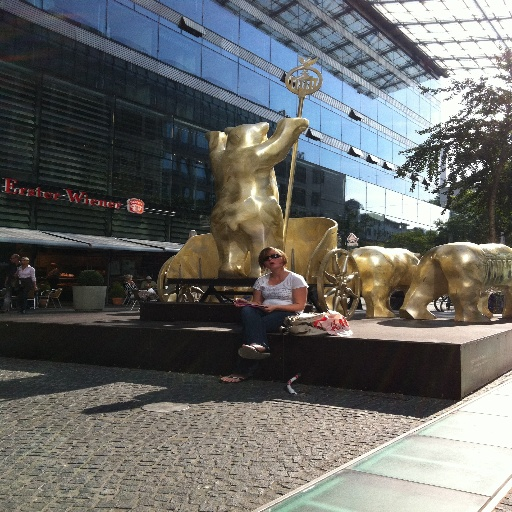hand: (229, 296, 249, 308), (262, 307, 276, 315)
